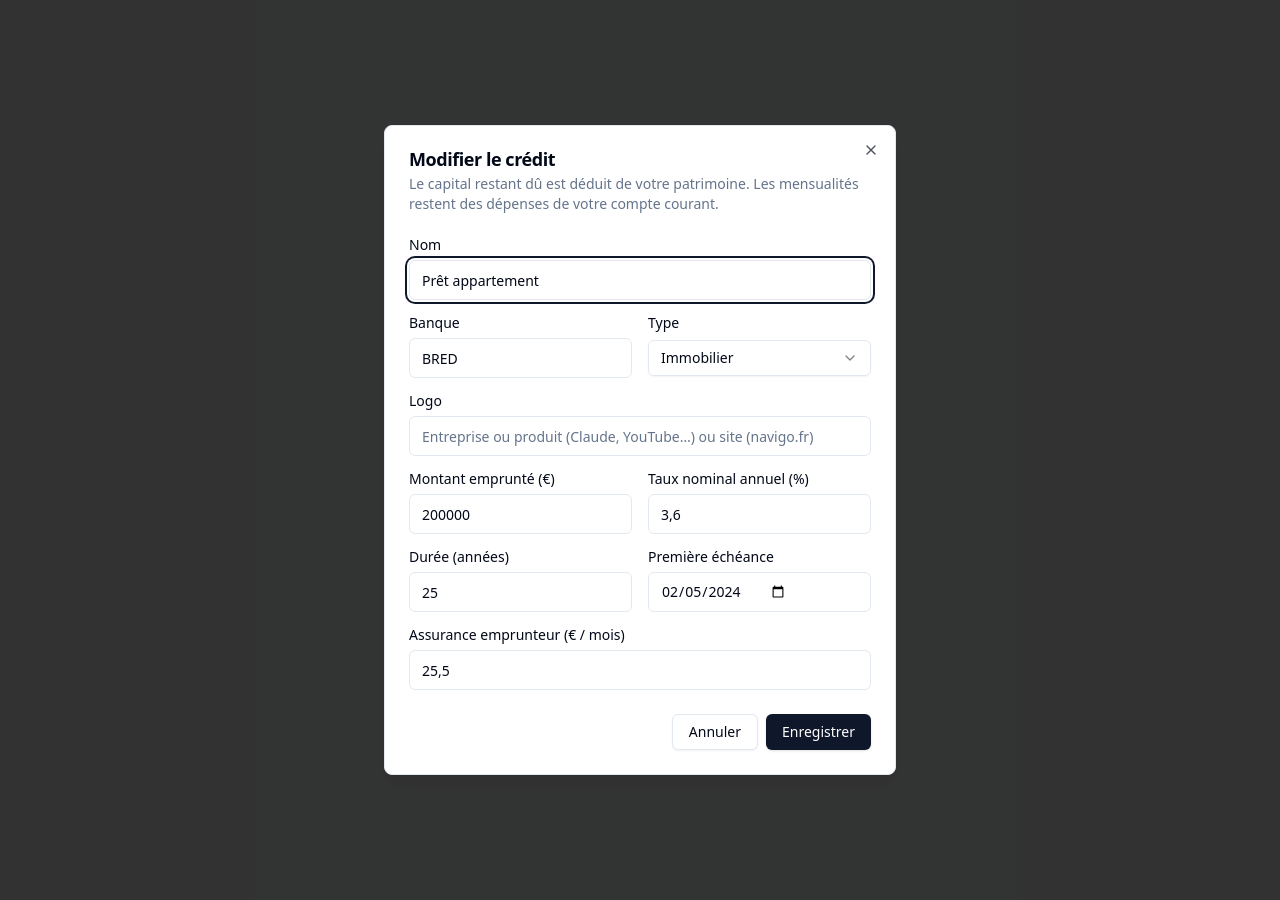
LoanDialog › affiche « Enregistrement… » désactivé pendant l'envoi
Click the button "Enregistrer" at (818, 732), box [766,714,871,750]
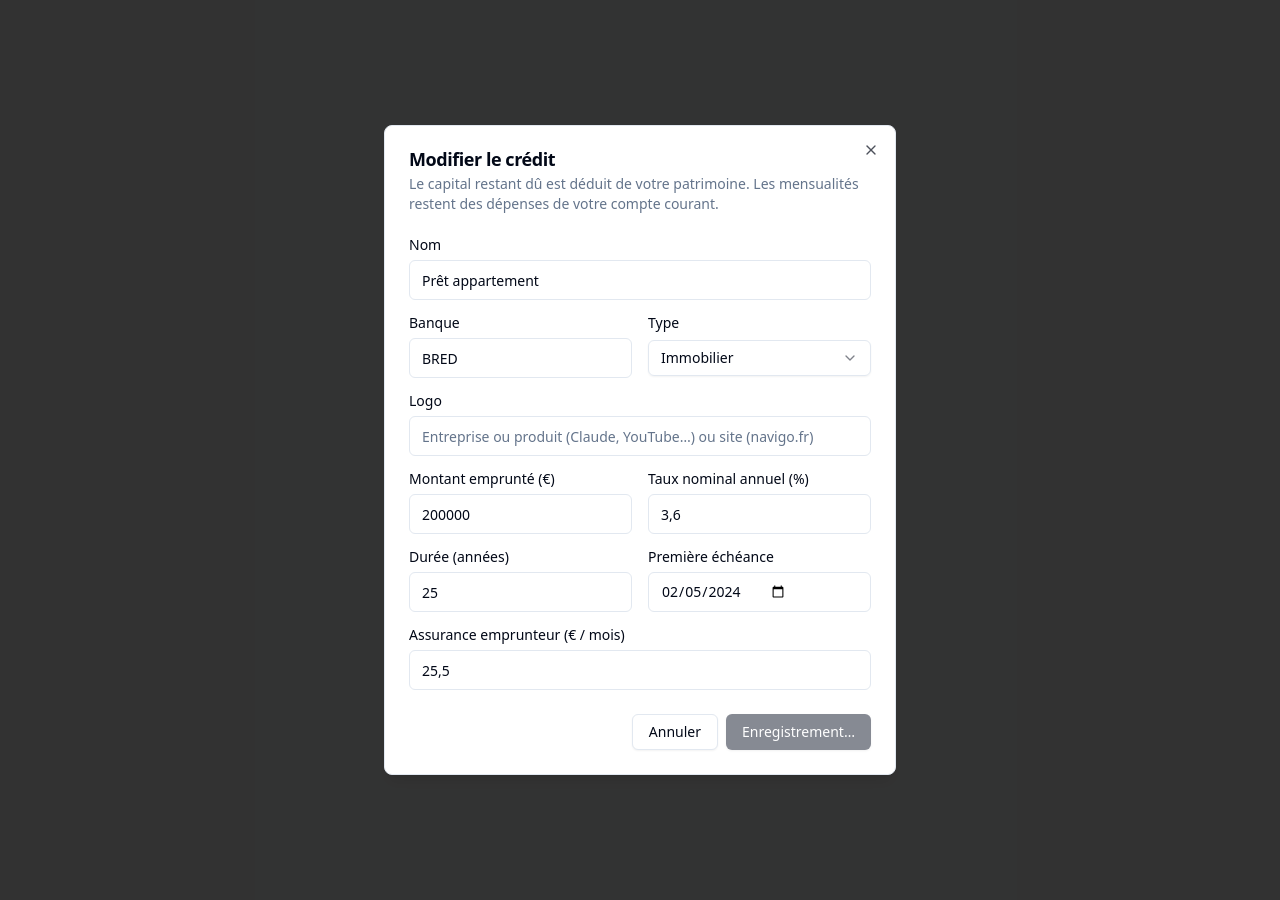
Expected: the button "Enregistrement…" is disabled
Click the button "Enregistrement…" at (798, 732), box [726,714,871,750]
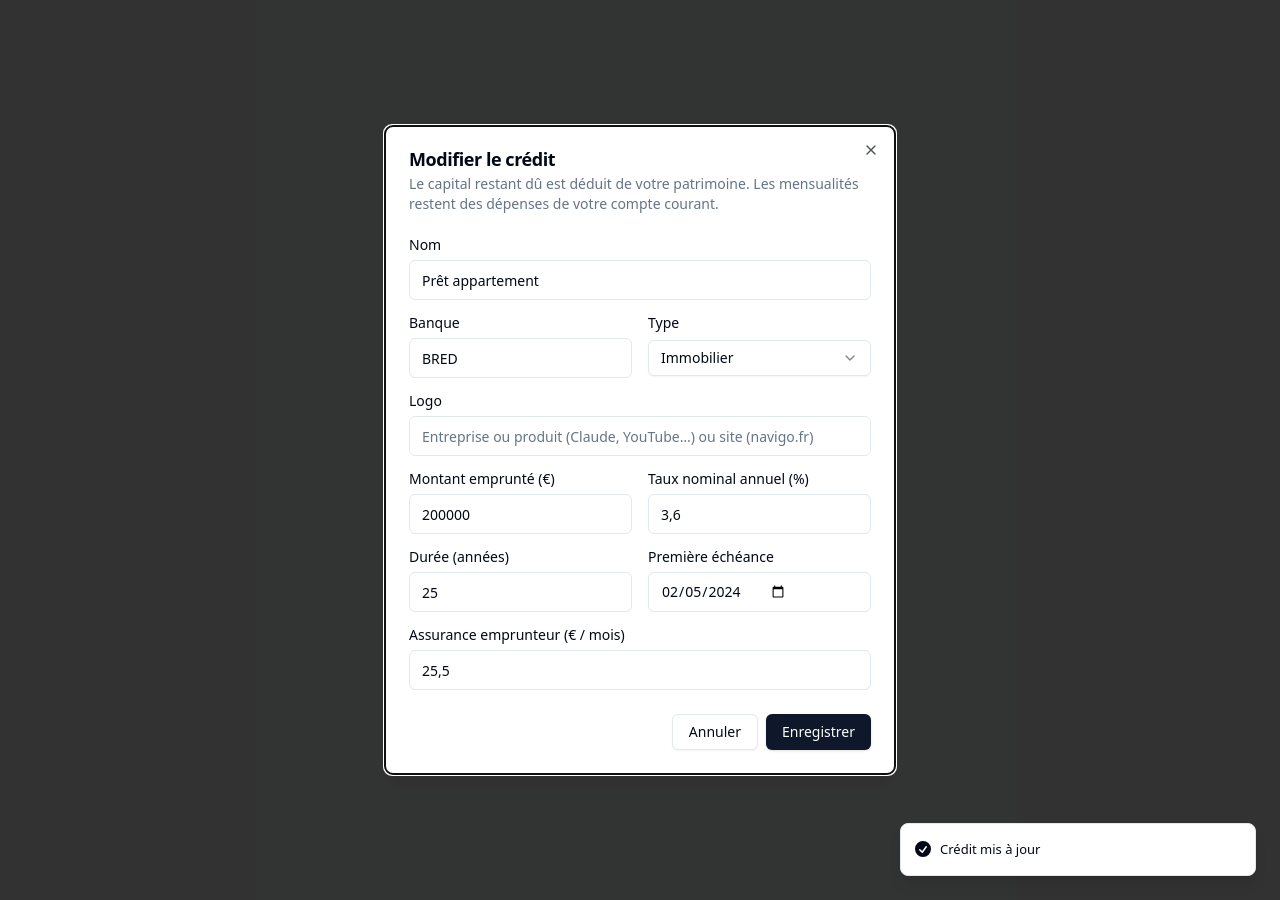
Expected: the text "Crédit mis à jour" is shown, [940,840,1040,859]
